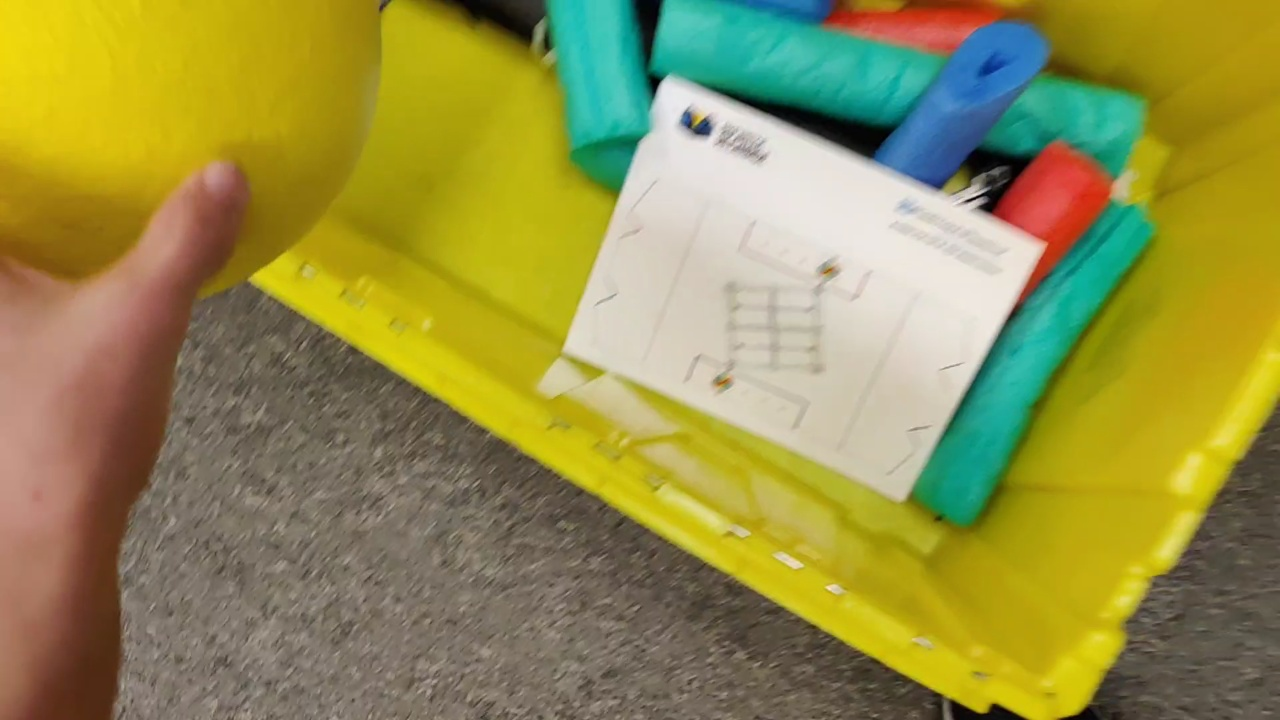Ball: (1, 1, 377, 297)
